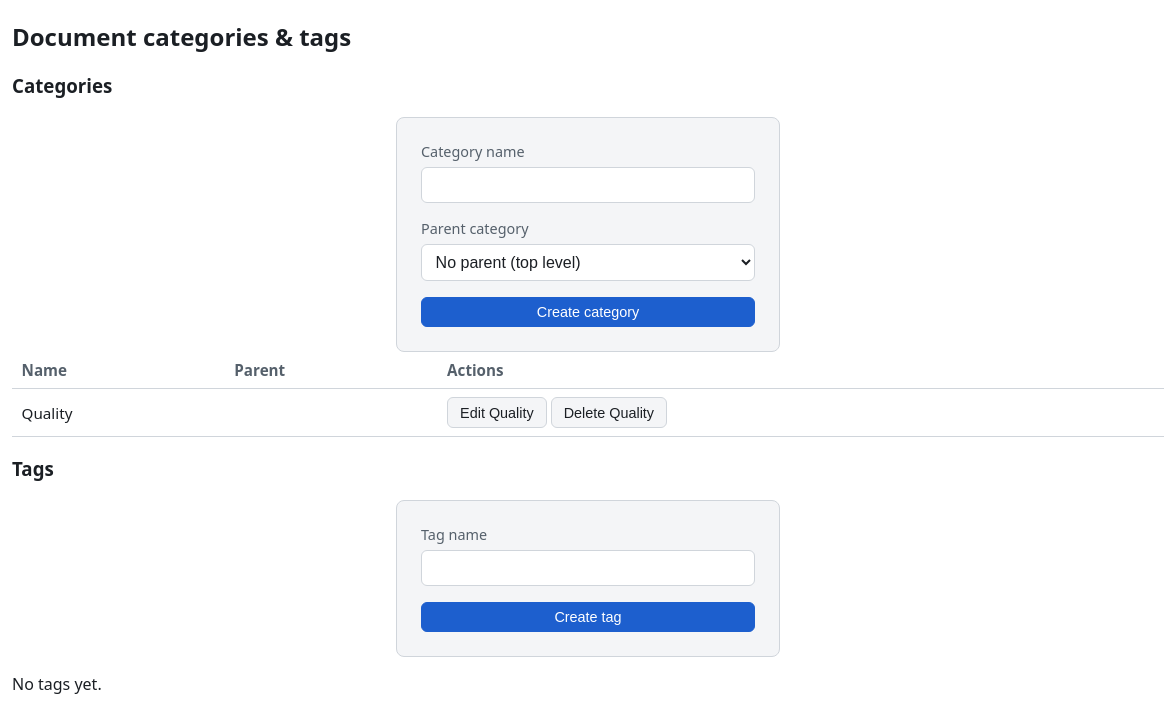
DocumentCategoriesPage › shows the server conflict message when deleting a category that is still in use
Expected: the cell "Quality" is shown, top-left (12, 389), bottom-right (225, 437)
Click the button "Delete Quality" at (609, 413), box top-left (551, 397), bottom-right (667, 428)
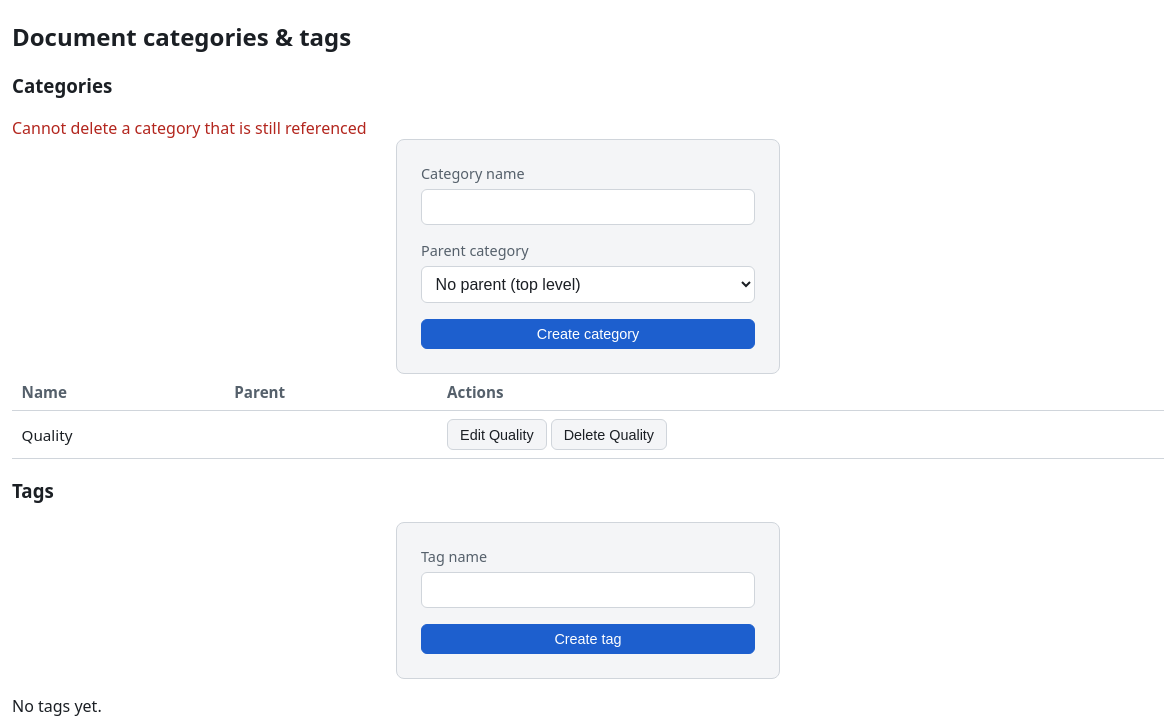
Expected: the message shows "still referenced", top-left (12, 116), bottom-right (367, 138)
